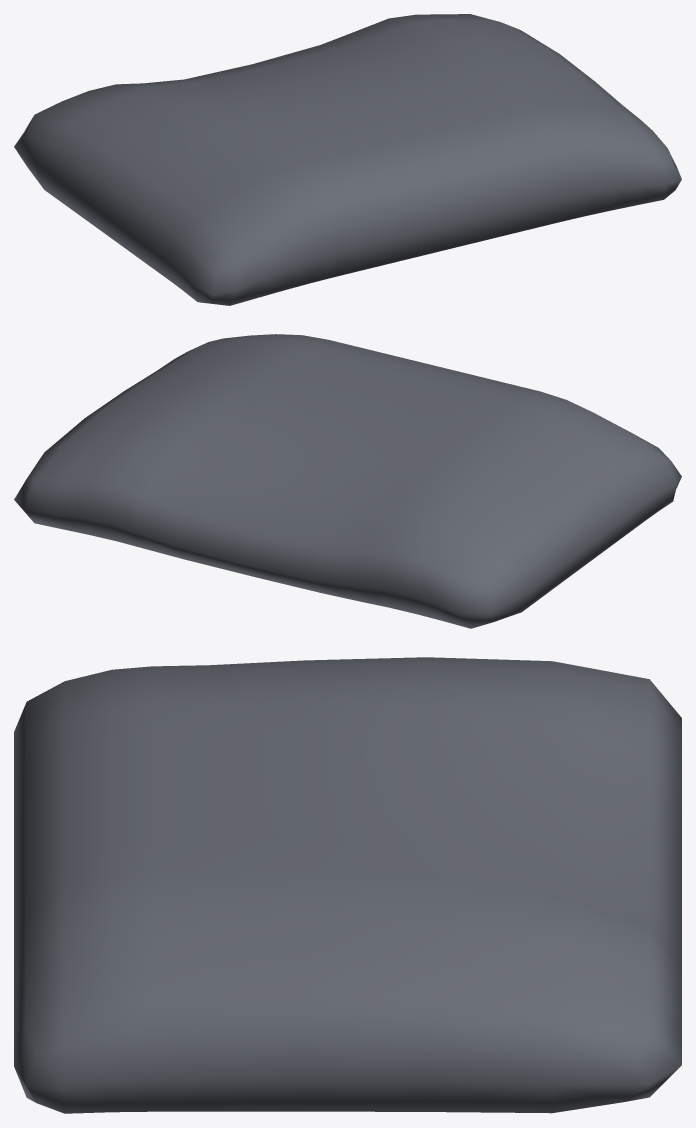
File: PILLOW FINISHED.fbx
The picture shows the model from 3 angles, top to bottom: view 1: azimuth 30°, elevation 25°; view 2: azimuth 150°, elevation 25°; view 3: azimuth 270°, elevation 25°; orthographic projection. The views are drawn at different scales.
Parts seen in each view (by area): view 1: pCube1; view 2: pCube1; view 3: pCube1.
Part boxes in pixels (bbox=[...]): pCube1: bbox=[14, 14, 681, 305]; pCube1: bbox=[14, 334, 681, 628]; pCube1: bbox=[14, 657, 681, 1113].
Bounding box in the file's own units: 0.5807 × 0.1079 × 0.4276.
